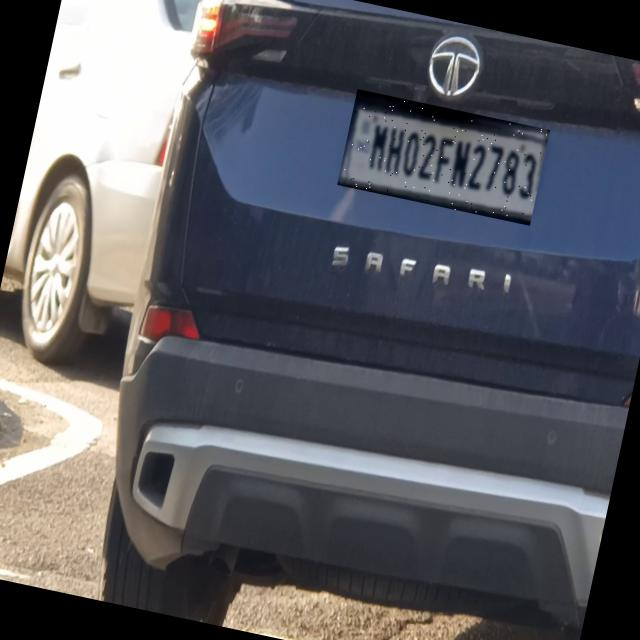Plate: (338, 90, 551, 227)
